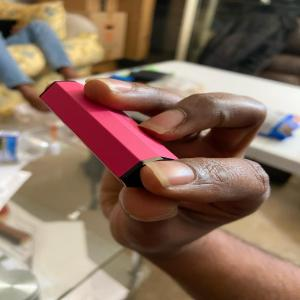Blume-E-Ciggirate: (36, 78, 186, 180)
